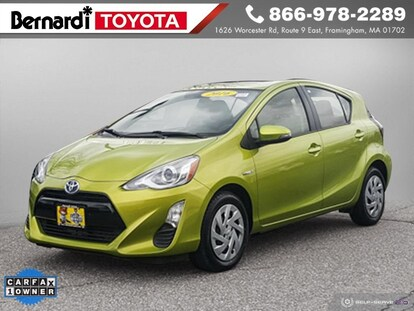Toyota Prius: (22, 76, 395, 277)
